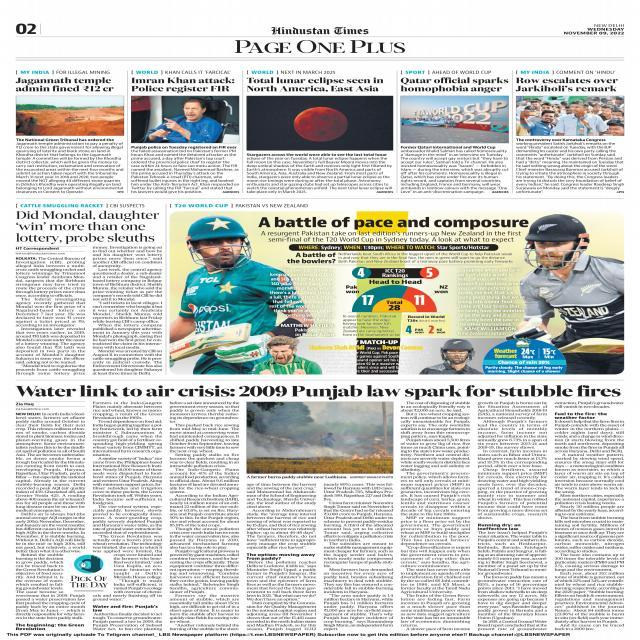Article: (8, 381, 629, 634), (10, 201, 628, 378), (244, 68, 396, 196), (11, 68, 126, 196), (398, 68, 512, 196), (514, 69, 628, 196), (129, 68, 241, 195)
Body: (476, 401, 550, 632), (552, 402, 626, 632), (92, 399, 164, 632), (168, 400, 240, 631), (400, 402, 470, 632), (15, 411, 87, 632), (322, 482, 393, 632), (246, 482, 316, 632), (91, 244, 163, 376), (12, 256, 88, 375), (246, 152, 394, 196), (514, 137, 626, 195), (15, 138, 125, 194), (399, 144, 511, 196), (130, 145, 239, 195), (307, 345, 433, 375)
Date: (561, 27, 625, 36)
Heading: (11, 383, 626, 400), (258, 217, 529, 230), (246, 75, 384, 94), (399, 75, 512, 93), (130, 75, 237, 94), (517, 75, 620, 94), (14, 76, 114, 94)
Highlights: (269, 267, 338, 338), (456, 268, 526, 336), (282, 244, 517, 264), (260, 231, 522, 243)
Image: (172, 214, 258, 374), (532, 212, 624, 338), (247, 402, 393, 473), (248, 95, 392, 151), (400, 95, 510, 144), (132, 96, 238, 144), (15, 95, 125, 137), (516, 95, 624, 136), (435, 338, 483, 374), (260, 339, 304, 375)
Name: (232, 39, 408, 54), (270, 26, 370, 36)
